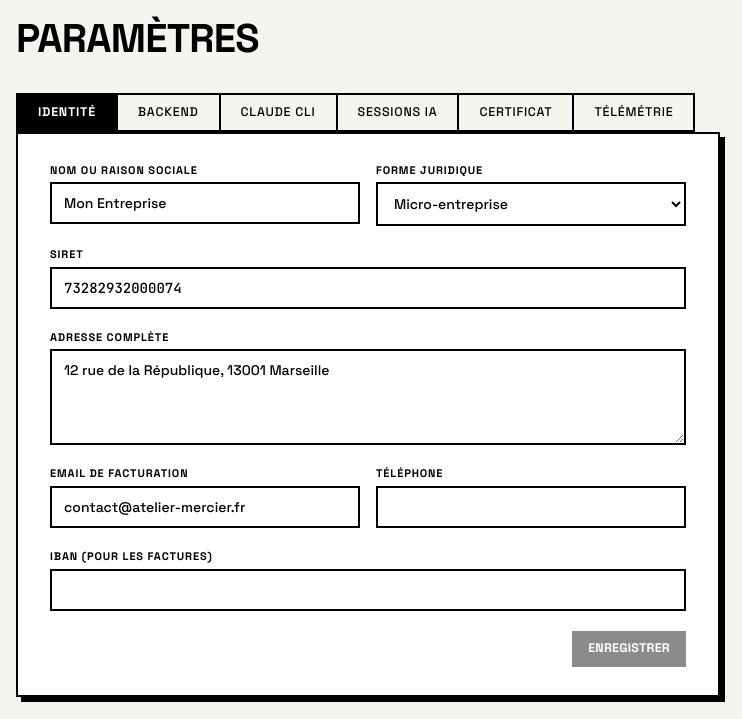
Test: SettingsRoute — tab Télémétrie › checkbox télémétrie désactivée par défaut
Click the tab "Télémétrie".
click(634, 112)  # box [572, 93, 695, 132]
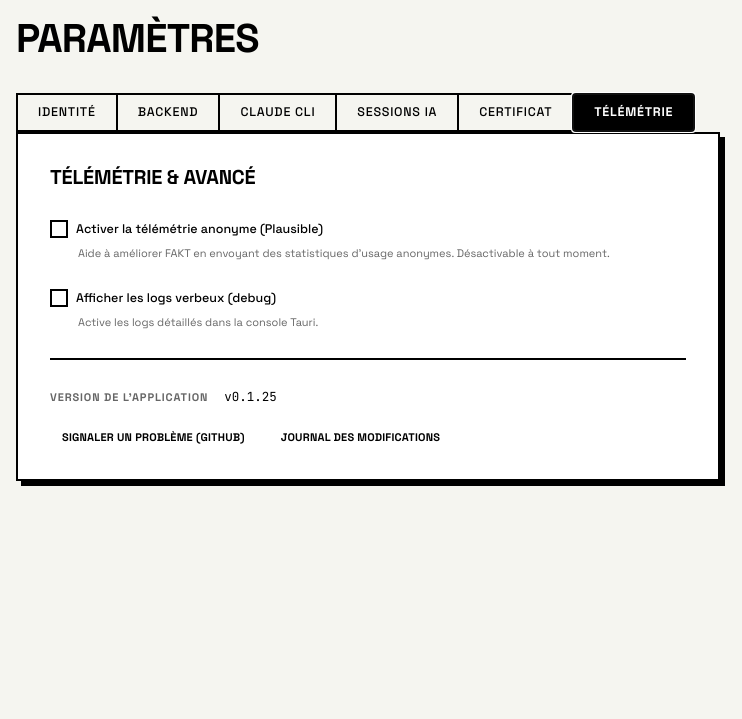
Now the checkbox labelled "Activer la télémétrie anonyme (Plausible)" is not checked, box [50, 220, 323, 238]
